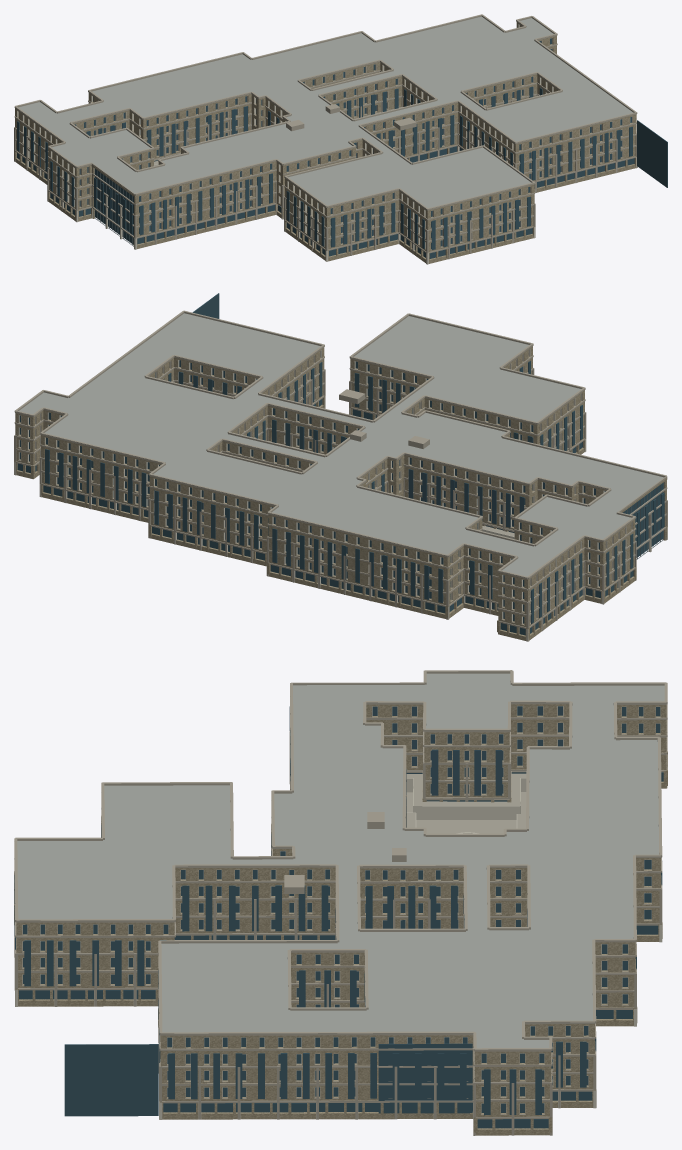
The model's file is zonghe.glb.
3 renders of one model, top to bottom at view 1: azimuth 30°, elevation 25°; view 2: azimuth 150°, elevation 25°; view 3: azimuth 270°, elevation 25°, orthographic. The views are drawn at different scales.
Visible parts, largest first — view 1: roof, wall, trim, glass, stone, metal; view 2: roof, wall, trim, glass, stone; view 3: roof, wall, glass, trim, stone, paving.
Part boxes in pixels (<box>): roof: <box>18,16,633,207</box>; wall: <box>14,22,636,263</box>; trim: <box>14,14,637,264</box>; glass: <box>17,38,667,258</box>; stone: <box>15,24,637,264</box>; metal: <box>94,168,133,246</box>; roof: <box>19,313,663,576</box>; wall: <box>14,346,667,640</box>; trim: <box>14,310,667,641</box>; glass: <box>17,293,664,635</box>; stone: <box>14,349,667,641</box>; roof: <box>17,673,664,1048</box>; wall: <box>14,704,667,1135</box>; glass: <box>14,706,663,1128</box>; trim: <box>14,670,667,1135</box>; stone: <box>14,706,667,1119</box>; paving: <box>406,773,526,833</box>.
Bounding box in the file's own units: 154 × 17.9 × 112.
9 materials, 1 textured.
